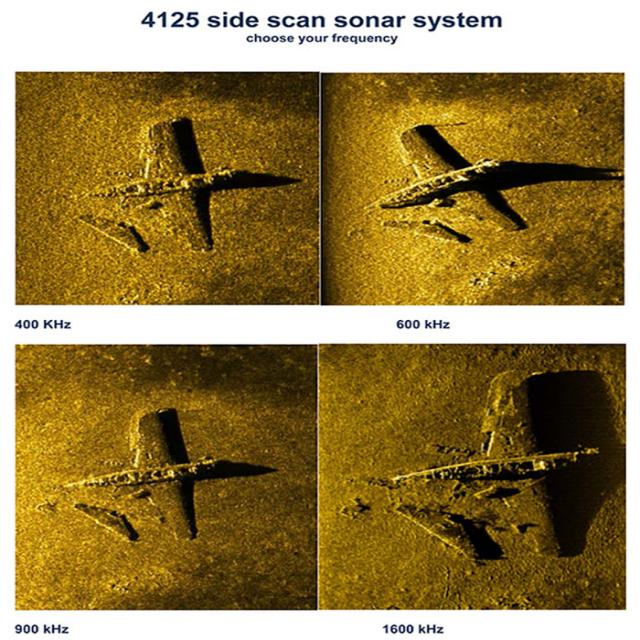plane: (361, 363, 616, 574), (76, 105, 279, 263), (51, 393, 243, 552), (364, 116, 569, 252)
